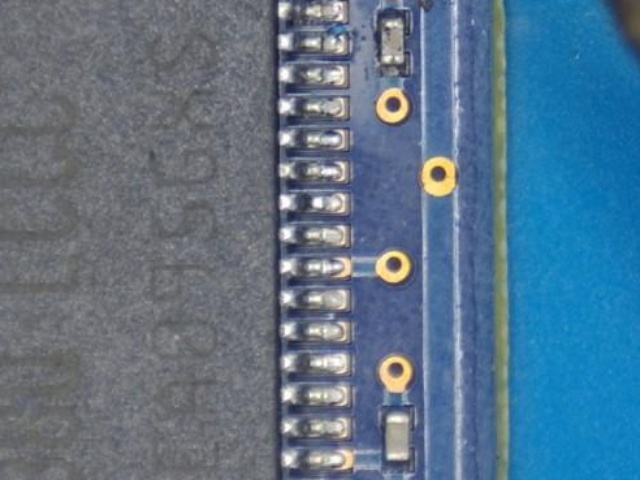pcb_defect: (276, 0, 346, 24)
